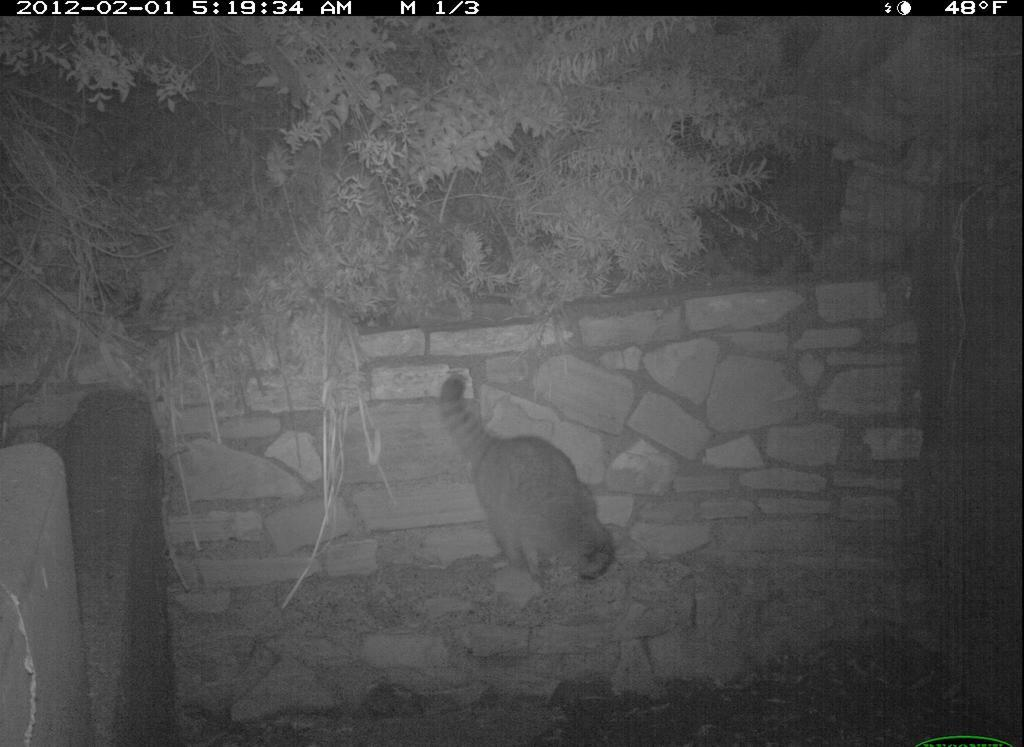raccoon: (442, 363, 624, 596)
